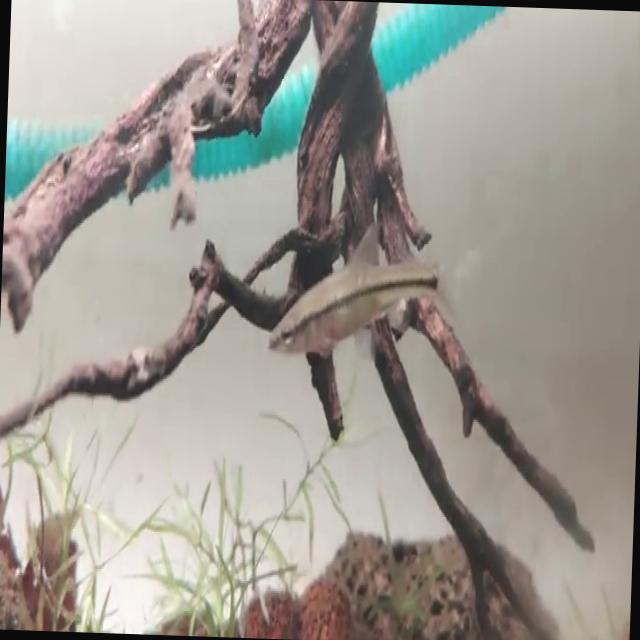Cakil Baligi: (262, 225, 481, 376)
